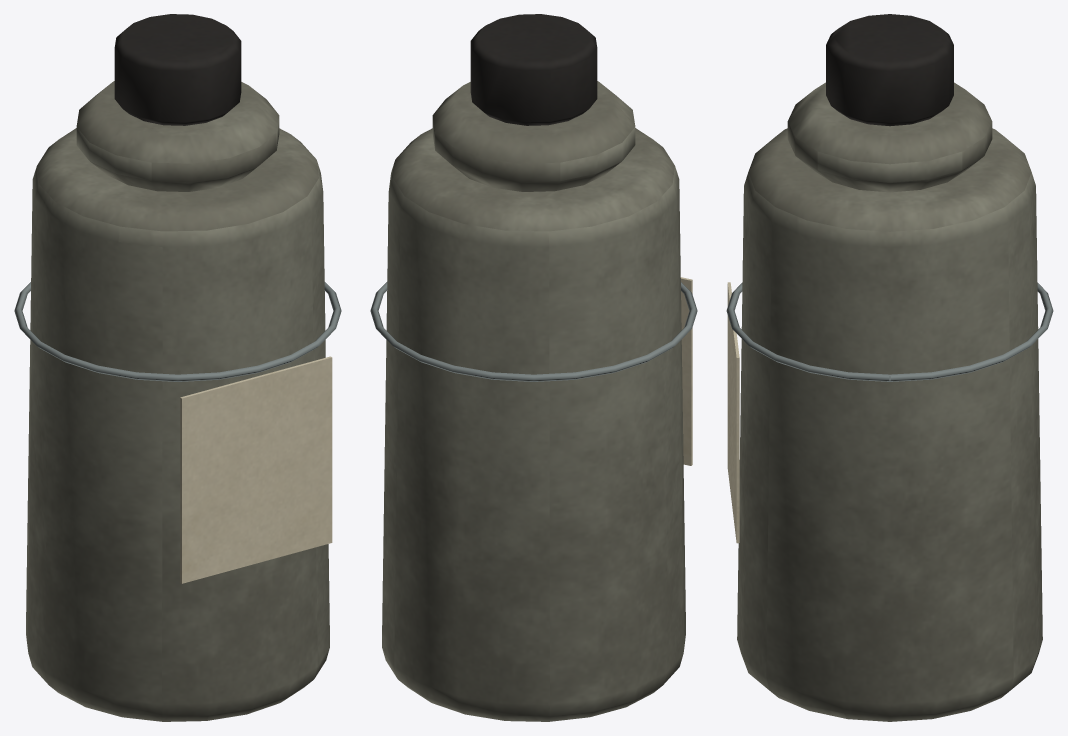
File: prop_chemicals_01.gltf
3 renders of one model, left to right at view 1: azimuth 30°, elevation 25°; view 2: azimuth 150°, elevation 25°; view 3: azimuth 270°, elevation 25°, orthographic.
Visible parts, largest first — view 1: prop_chemicals_01_item_atlas_01; view 2: prop_chemicals_01_item_atlas_01; view 3: prop_chemicals_01_item_atlas_01.
Boxes of the visible parts, left/top/right/bottom form: prop_chemicals_01_item_atlas_01: left=14, top=14, right=341, bottom=721; prop_chemicals_01_item_atlas_01: left=370, top=14, right=697, bottom=721; prop_chemicals_01_item_atlas_01: left=726, top=14, right=1053, bottom=721.
Bounding box in the file's own units: 0.064 × 0.136 × 0.064.
1 material, 1 textured.
